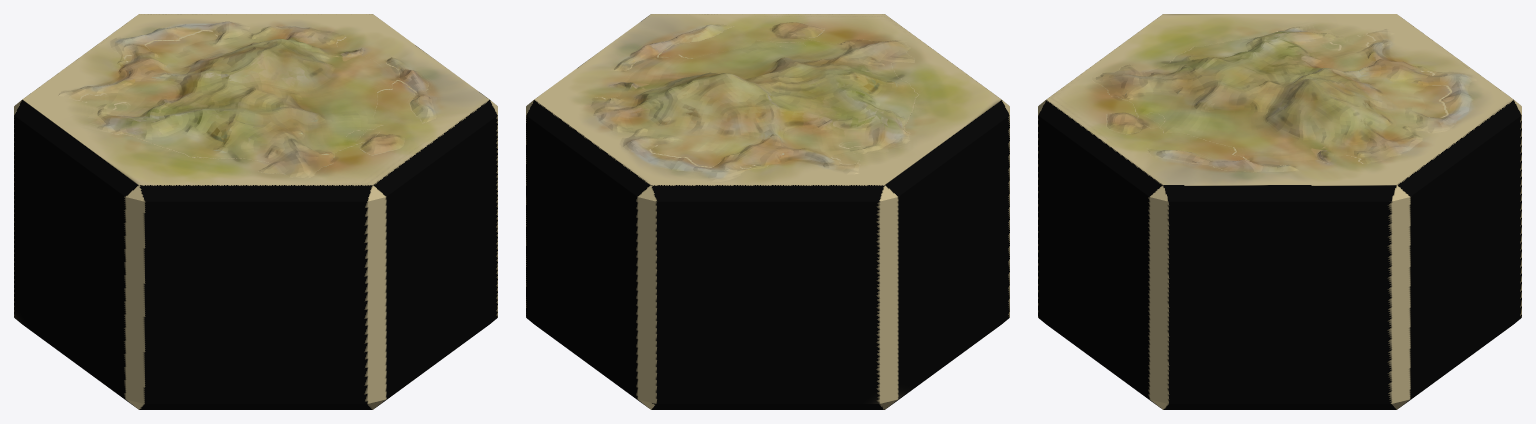
File: White.01.fbx
The picture shows the model from 3 angles, left to right: view 1: azimuth 30°, elevation 25°; view 2: azimuth 150°, elevation 25°; view 3: azimuth 270°, elevation 25°; orthographic projection.
Visible parts, largest first — view 1: 01.White; view 2: 01.White; view 3: 01.White.
Boxes of the visible parts, <box> form: 01.White: <box>14,14,497,409</box>; 01.White: <box>526,14,1009,409</box>; 01.White: <box>1038,14,1521,409</box>.
Size of the model in its own units: 173 by 114 by 195.
Materials: 1 (1 with a texture image).
